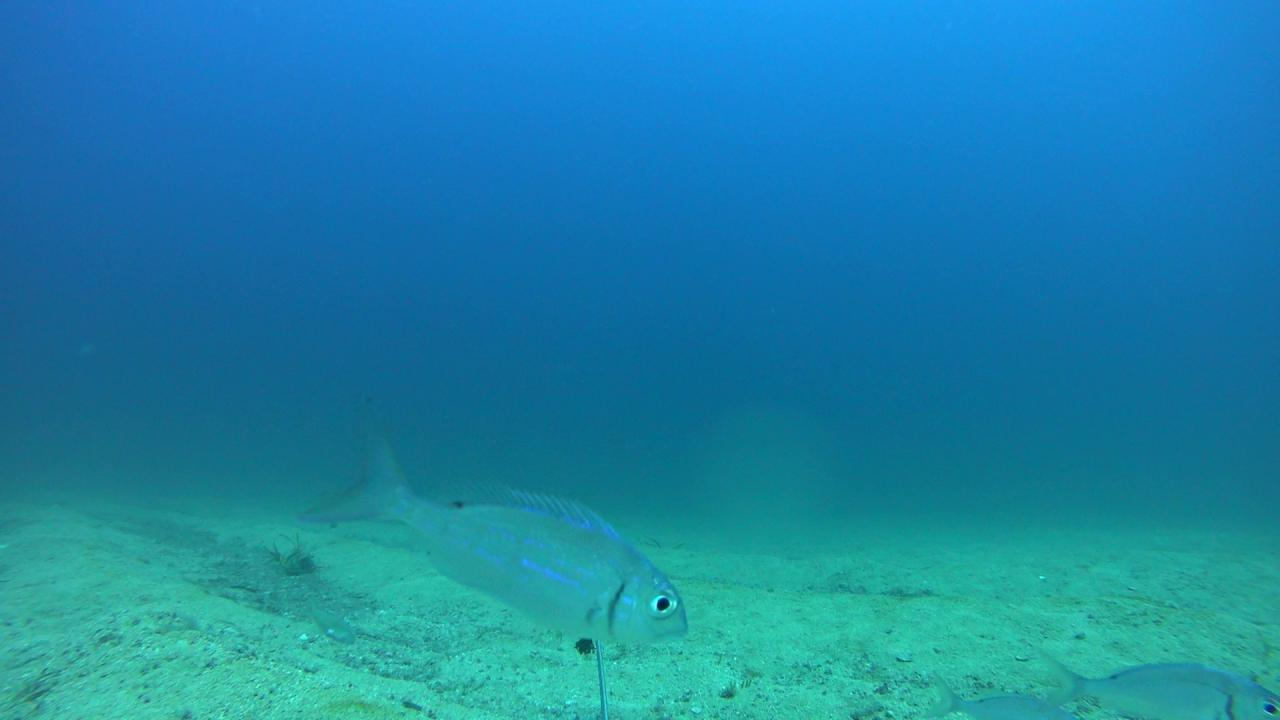pagellus: (302, 395, 688, 647)
